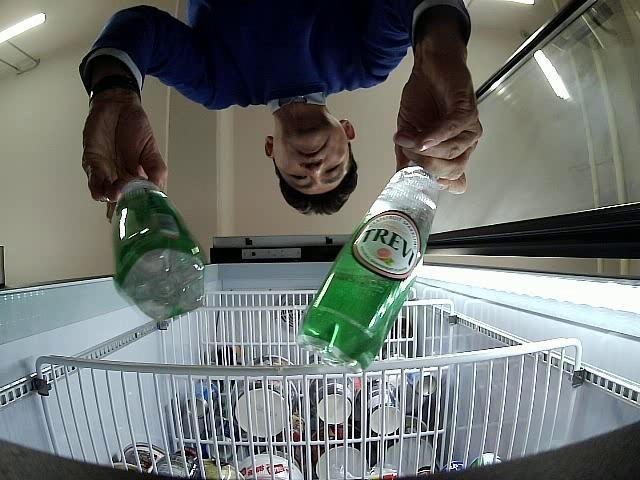18_trevi: (296, 164, 438, 372), (112, 178, 203, 322)
